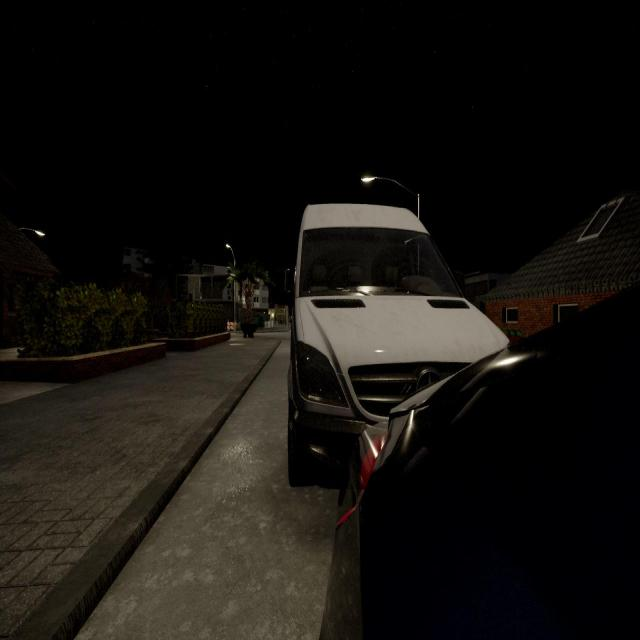Vehicle: (320, 288, 640, 640), (285, 199, 506, 488)
